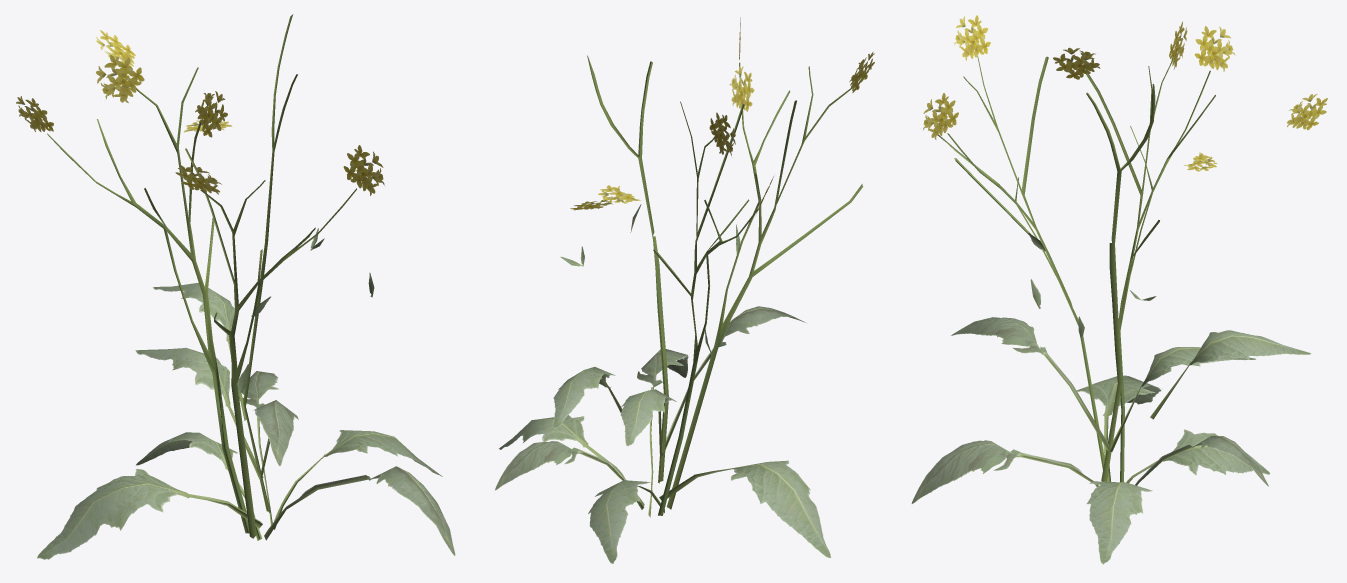
File: flower_yellow_lod0.glb
3 views of the same model, side by side, from view 1: azimuth 30°, elevation 25°; view 2: azimuth 150°, elevation 25°; view 3: azimuth 270°, elevation 25° (orthographic). The views are drawn at different scales.
Parts seen in each view (by area): view 1: bq_Flower_Bunias-orientalis_A_summer; view 2: bq_Flower_Bunias-orientalis_A_summer; view 3: bq_Flower_Bunias-orientalis_A_summer.
Boxes of the visible parts, <box> form: bq_Flower_Bunias-orientalis_A_summer: <box>16,14,455,559</box>; bq_Flower_Bunias-orientalis_A_summer: <box>495,17,874,563</box>; bq_Flower_Bunias-orientalis_A_summer: <box>911,15,1327,564</box>.
Bounding box in the file's own units: 0.6574 × 0.8096 × 0.6951.
2 materials, 2 textured.
